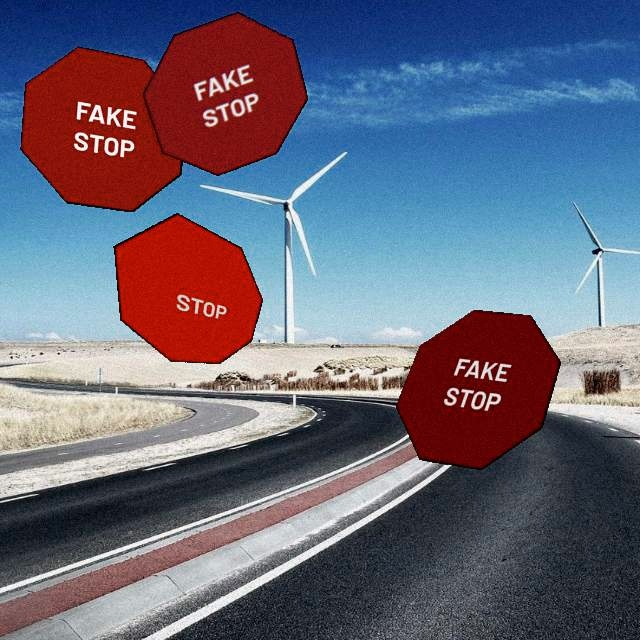FAKE_STOP: (20, 46, 186, 212), (142, 11, 308, 176), (395, 309, 561, 470)
STOP: (113, 212, 263, 364)
